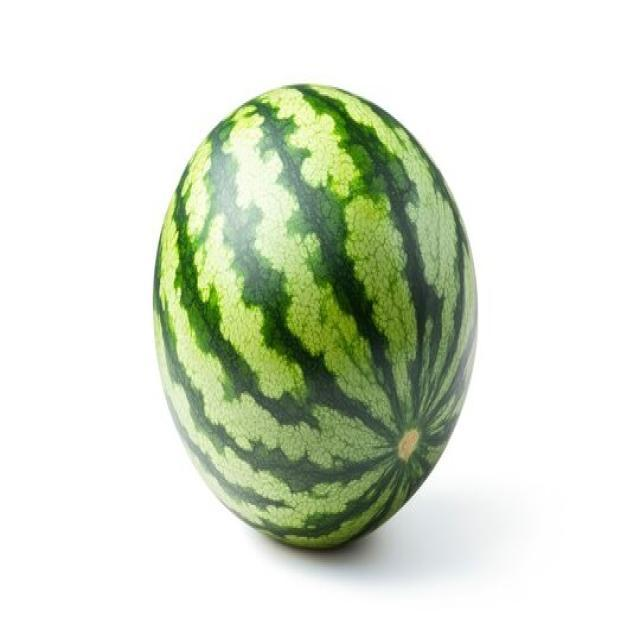Watermelon: (147, 84, 482, 548)
